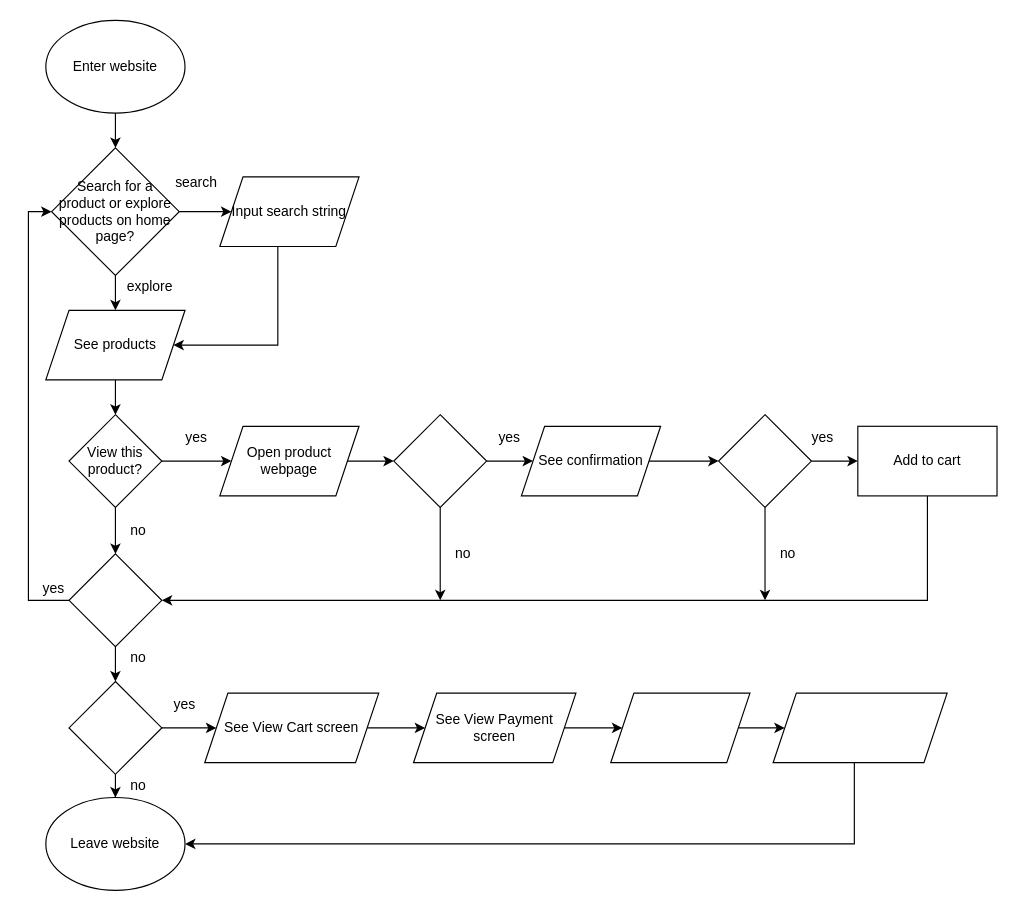
The diagram is 1017 pixels wide and 911 high, and some of its shapes have lost their labels. The box of each missing label's shape, as (x1, y1, x2, y2) in pixels:
Add to cart?: (393, 414, 487, 507)
Checkout?: (68, 680, 162, 774)
Confirm?: (717, 414, 811, 507)
Continue shopping?: (68, 553, 162, 647)
Input payment information: (610, 692, 750, 763)
See order confirmation screen and receive an email: (772, 692, 947, 763)
